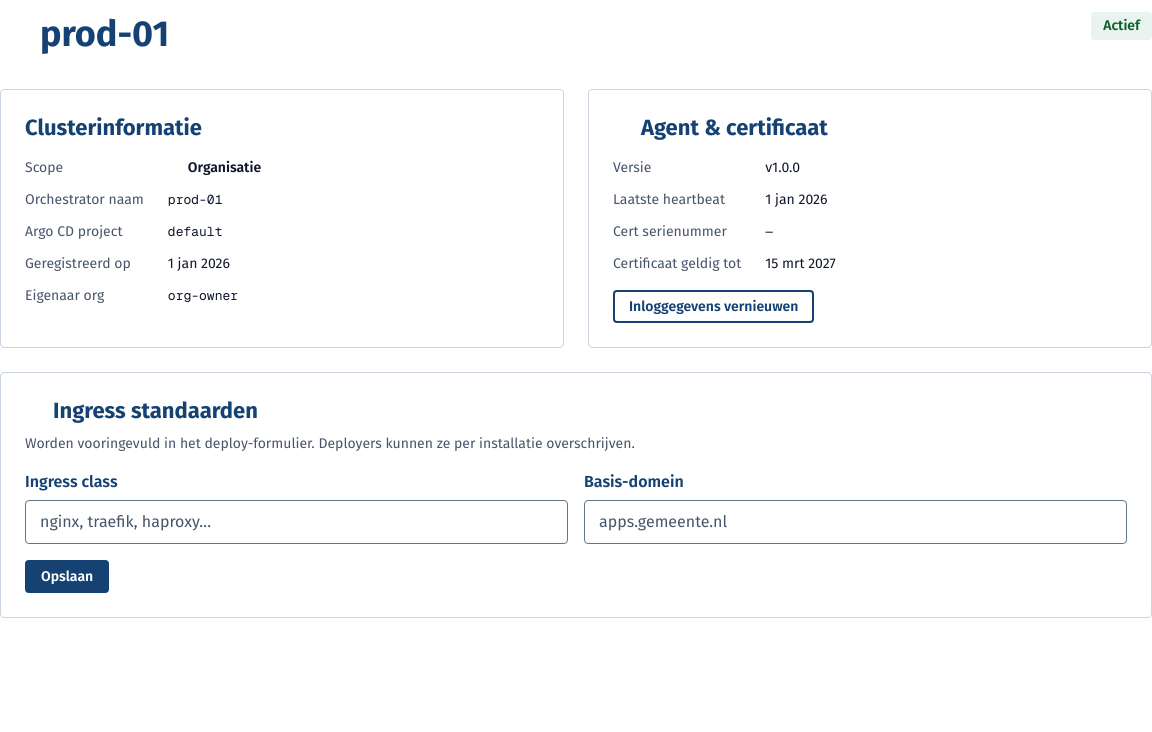
Test case: cluster credential rotation control › asks for confirmation and requests the rotation
Click the button with test id "rotate-credential".
click(714, 306)  # box 613,290 -> 814,323
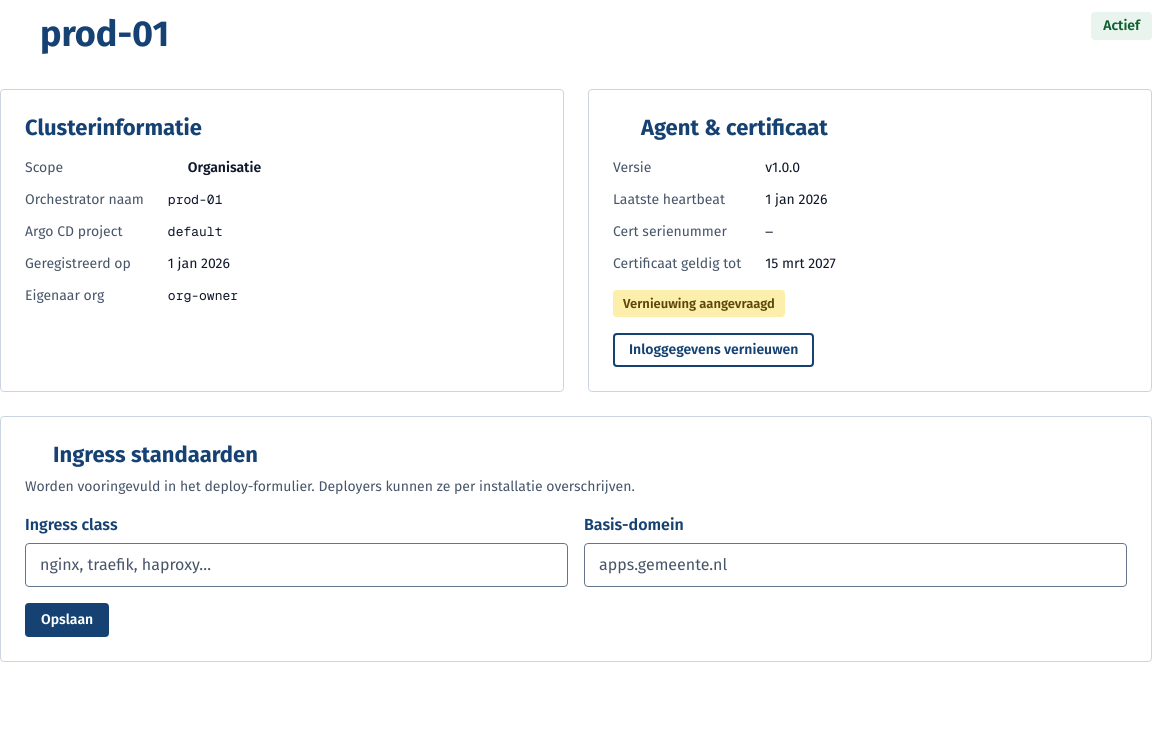
Check: the text with test id "rotation-pending" reads "Vernieuwing aangevraagd", box 623,296 -> 775,310
